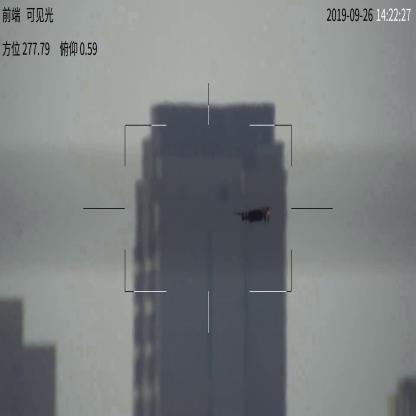uav: (234, 203, 274, 226)
